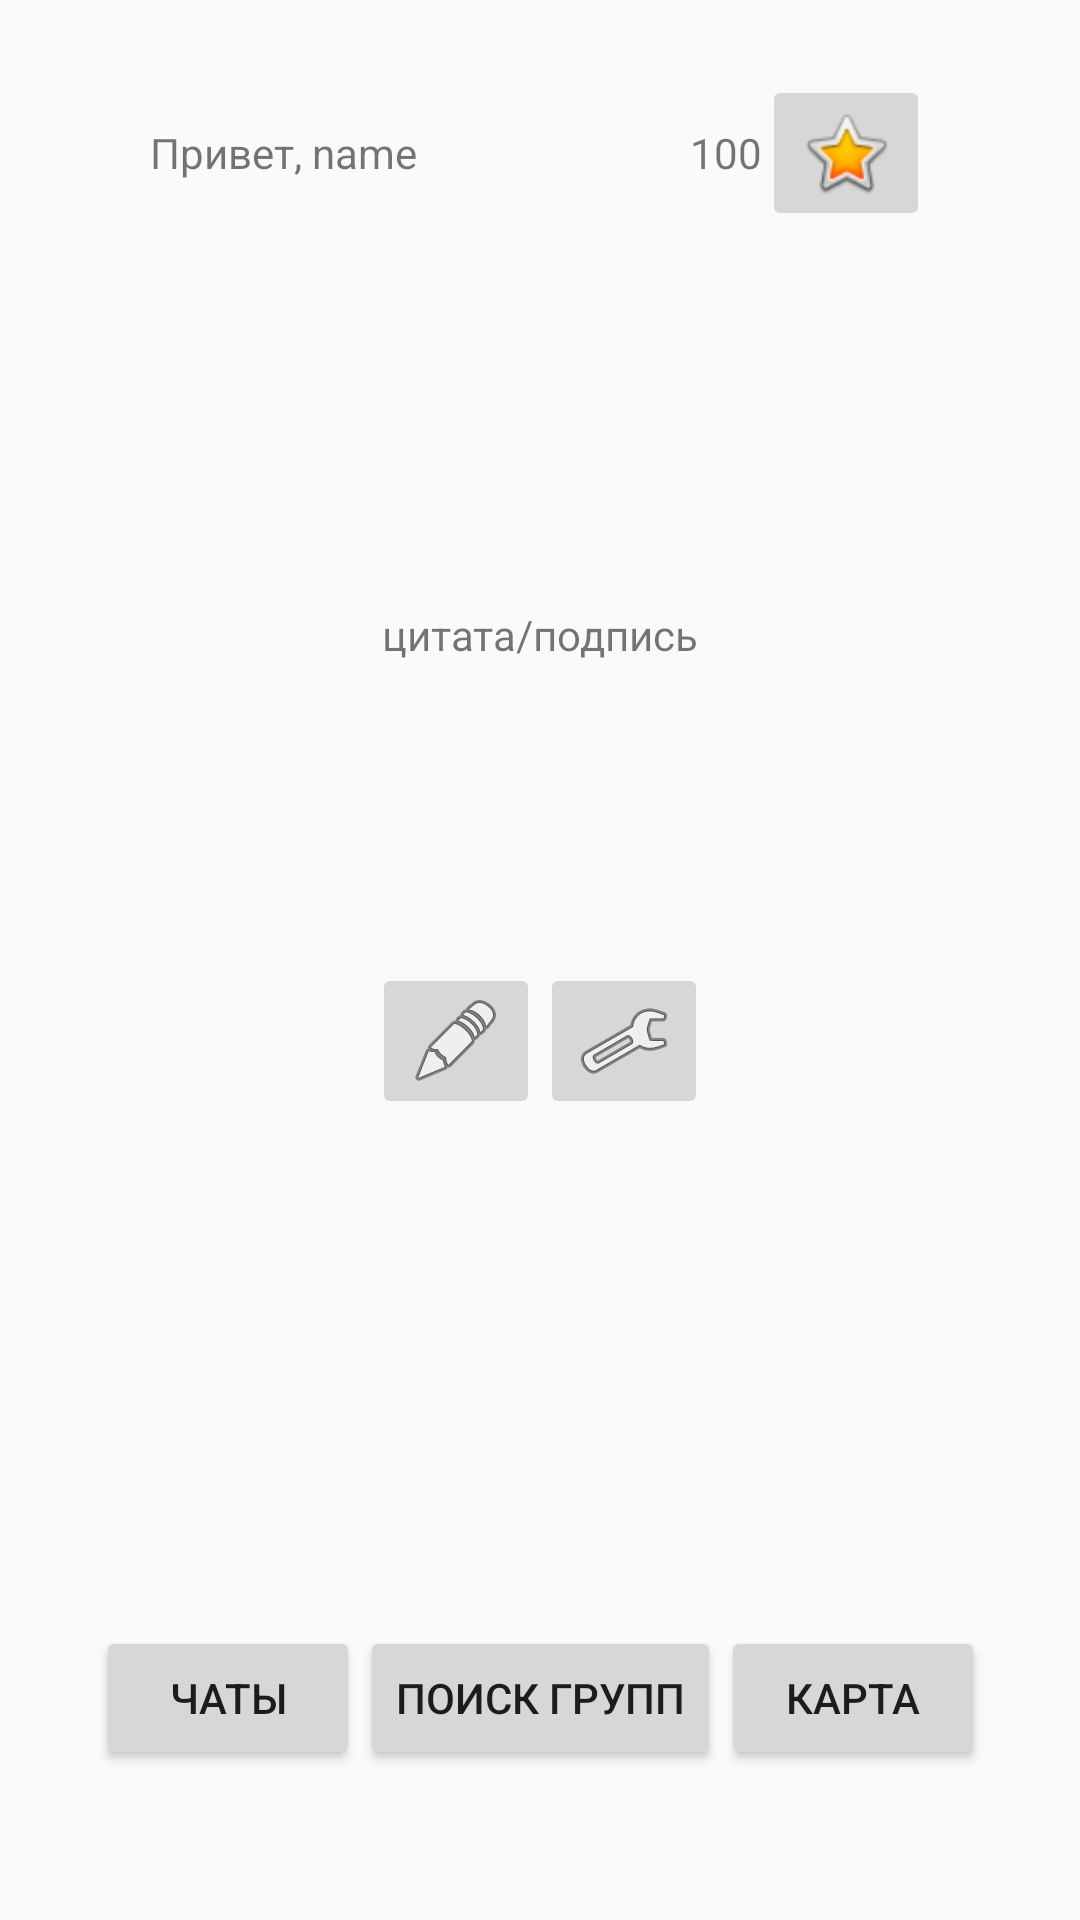

Named icons in this screenshot (1080×1920) and their centers, (x,y):
edit: (456,1041)
manage: (624,1041)
star on: (846,153)
